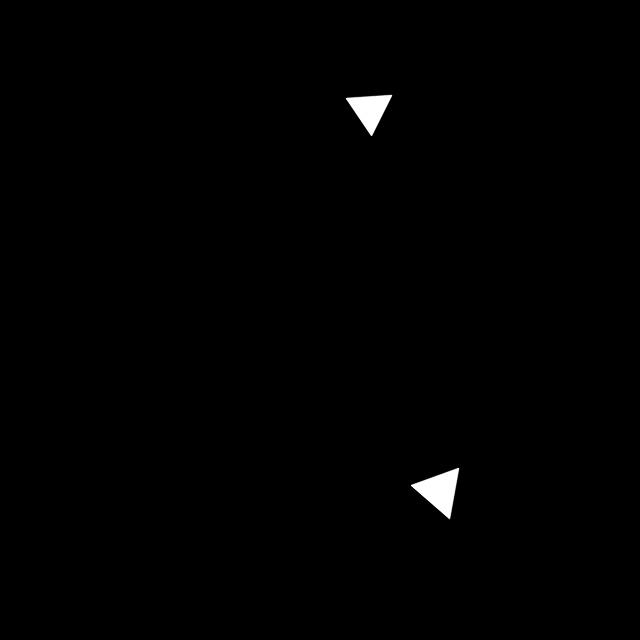Triangle: (400, 453, 469, 530), (340, 82, 402, 144)
